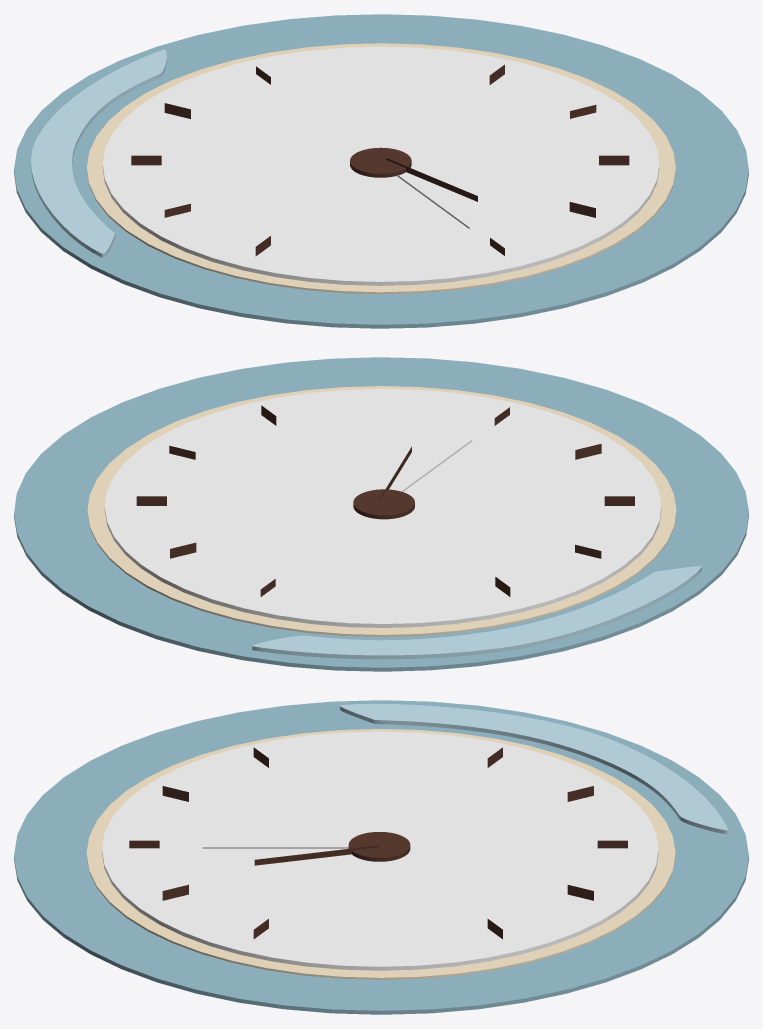
File: emoji_u1f560.glb
The picture shows the model from 3 angles, top to bottom: view 1: azimuth 30°, elevation 25°; view 2: azimuth 150°, elevation 25°; view 3: azimuth 270°, elevation 25°; orthographic projection.
Visible parts, largest first — view 1: emoji_u1f560; view 2: emoji_u1f560; view 3: emoji_u1f560.
Part boxes in pixels (box(x1,y1,x2,y2)): emoji_u1f560: box(14, 14, 748, 328); emoji_u1f560: box(14, 357, 748, 671); emoji_u1f560: box(14, 700, 748, 1014).
Bounding box in the file's own units: 0.0339 × 0.0018 × 0.0339.
